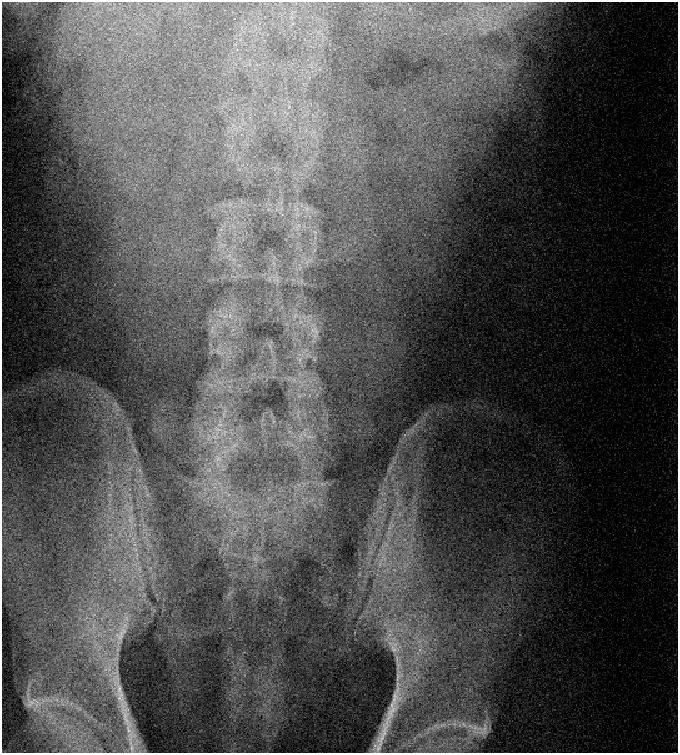lumbar scoliosis: (196, 110, 343, 488)
